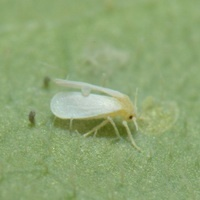insect: (50, 79, 141, 151)
